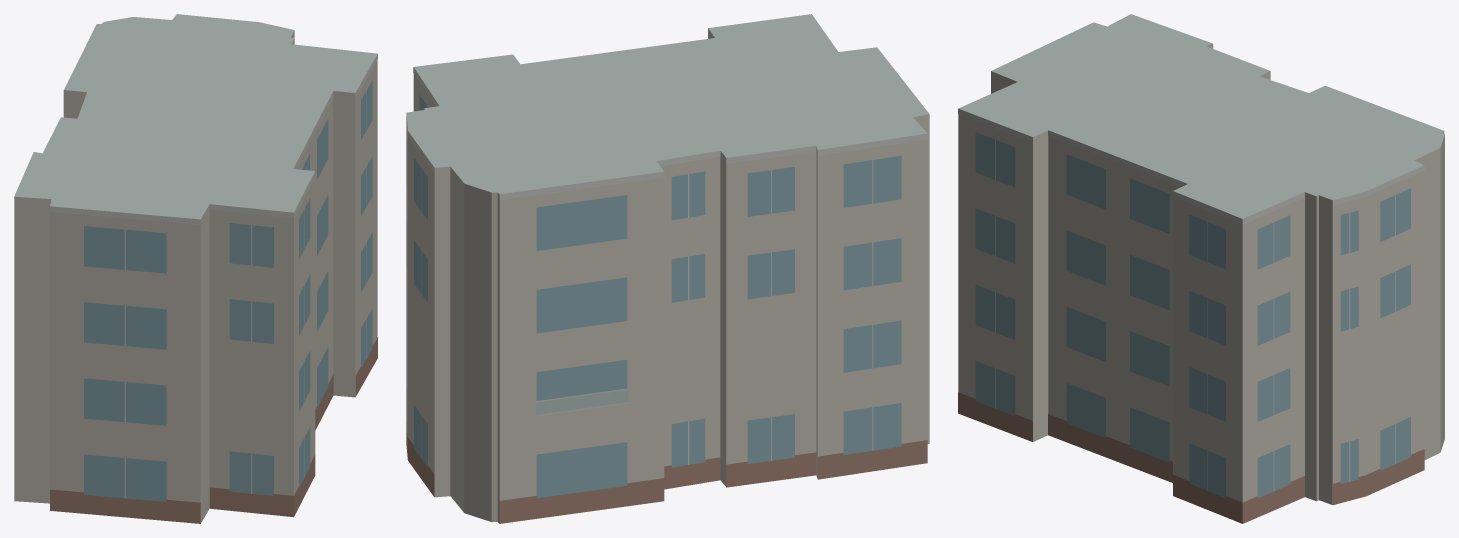
The model's file is survey-upis-32676342.glb.
3 views of the same model, side by side, from view 1: azimuth 30°, elevation 25°; view 2: azimuth 150°, elevation 25°; view 3: azimuth 270°, elevation 25° (orthographic). The views are drawn at different scales.
Visible parts, largest first — view 1: survey-upis-32676342.tmp; view 2: survey-upis-32676342.tmp; view 3: survey-upis-32676342.tmp.
Part boxes in pixels (x1=…): survey-upis-32676342.tmp: x1=14, y1=14, x2=377, y2=523; survey-upis-32676342.tmp: x1=406, y1=14, x2=929, y2=523; survey-upis-32676342.tmp: x1=958, y1=14, x2=1444, y2=523.
Bounding box in the file's own units: 19.32 × 13.4 × 19.38.
